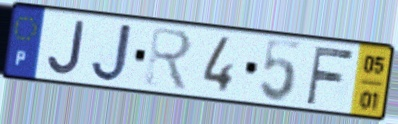4: (200, 35, 237, 95)
5: (258, 36, 306, 105)
F: (303, 44, 357, 107)
J: (88, 21, 136, 84), (44, 18, 88, 77)
R: (143, 24, 194, 94)
